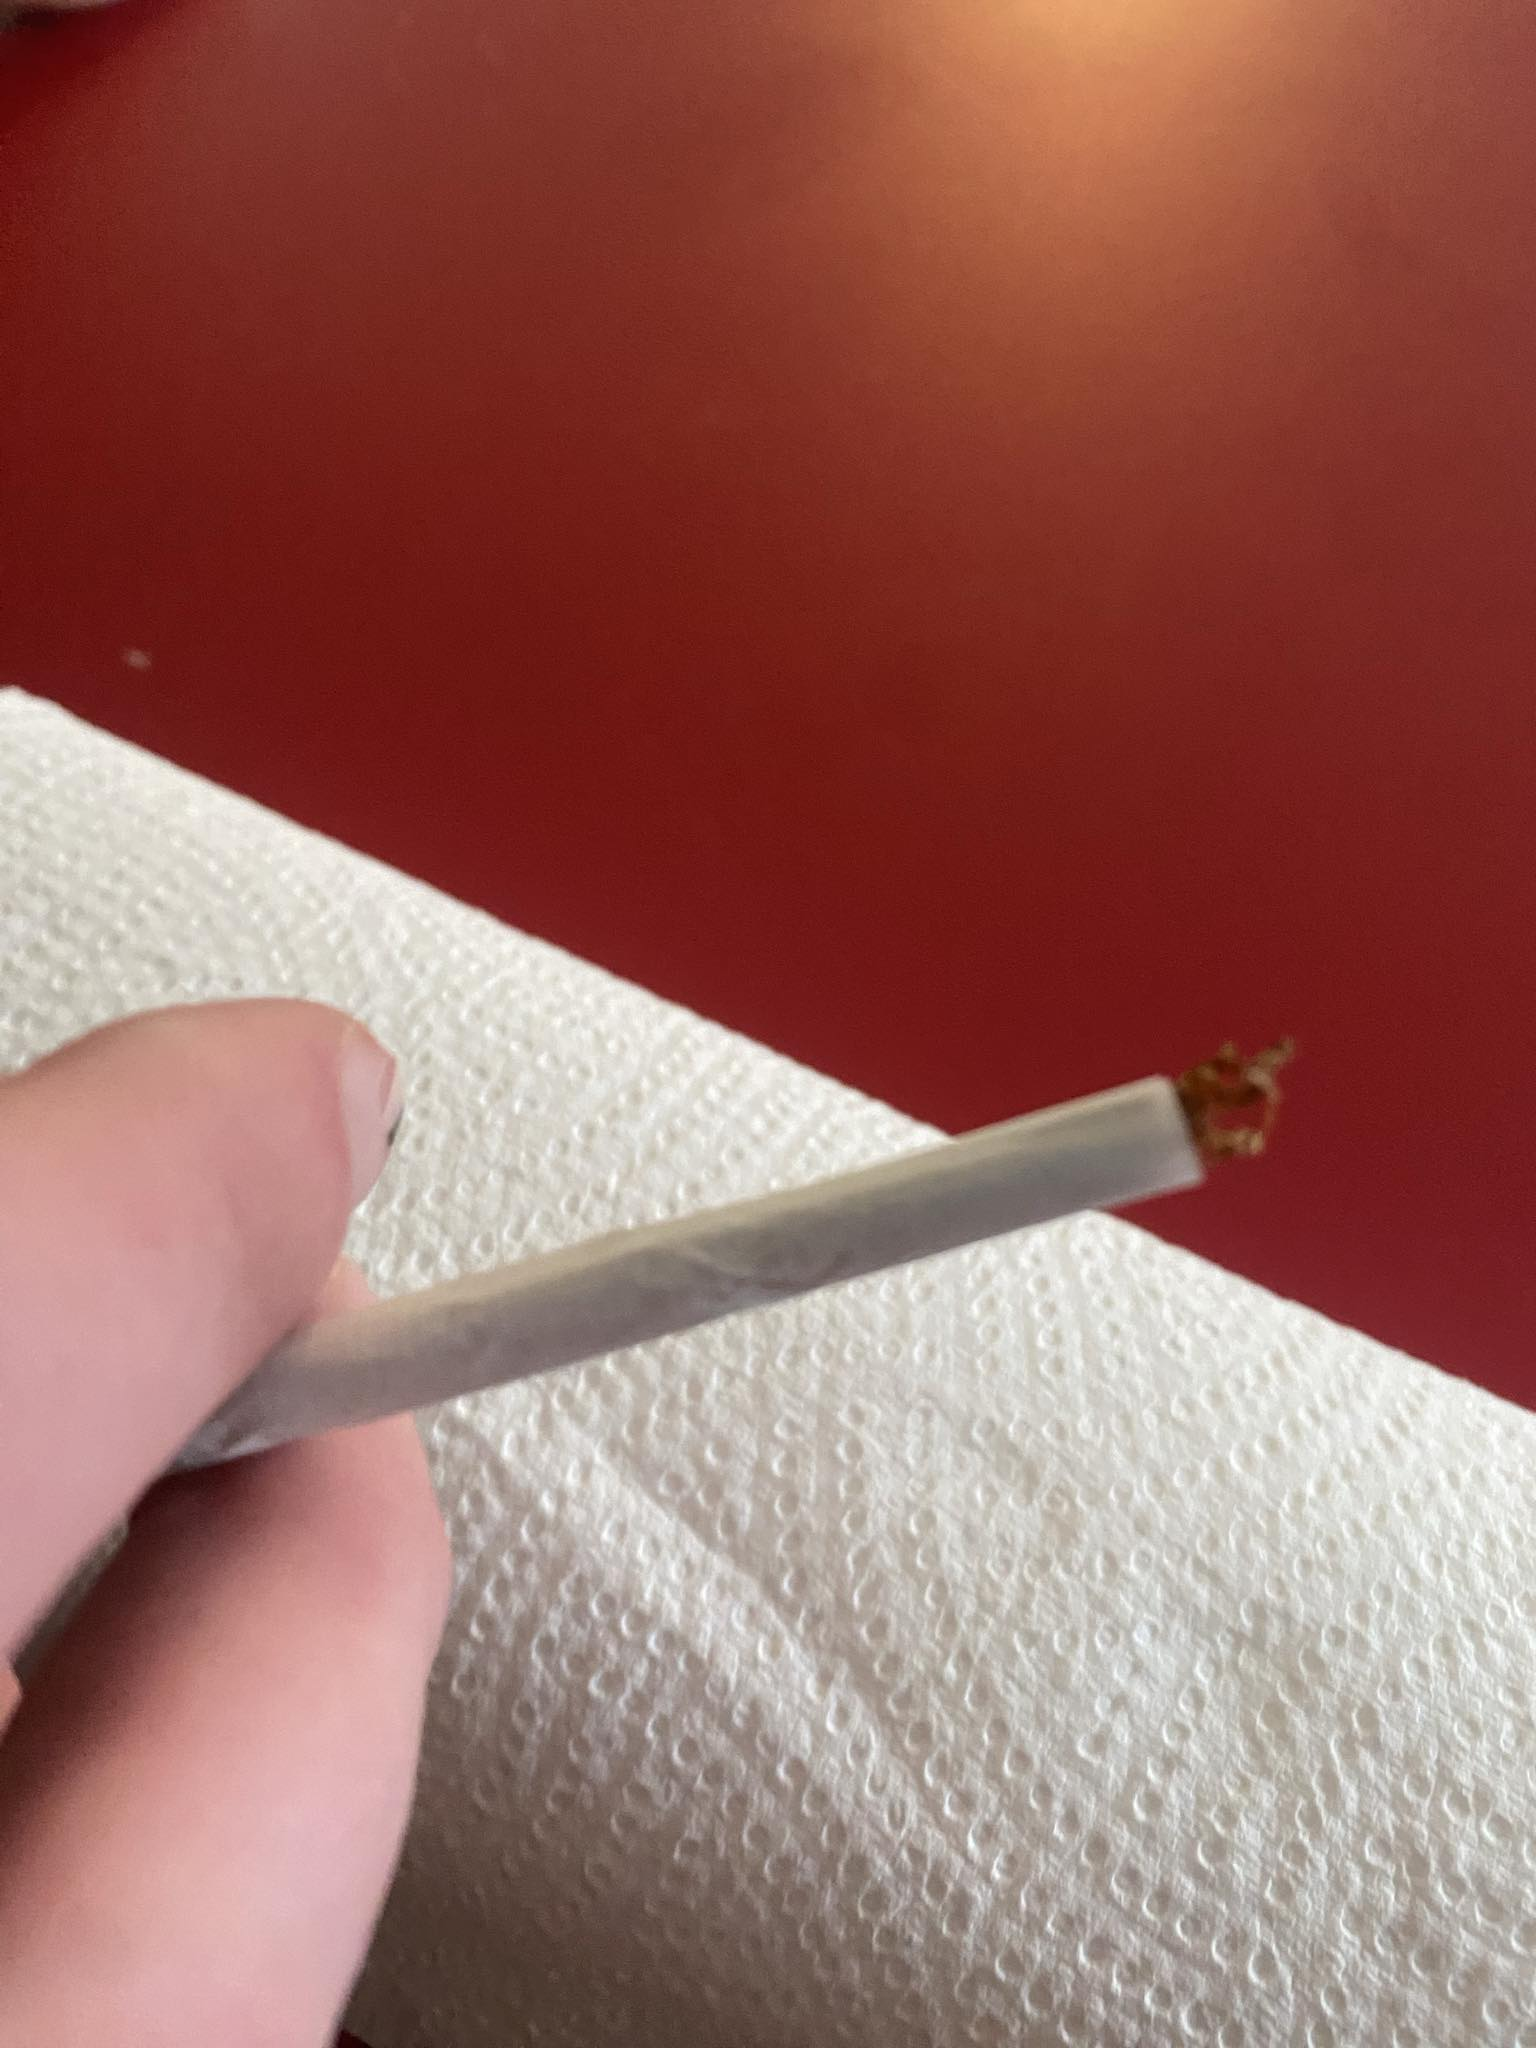Cigarette: (157, 1043, 1304, 1471)
